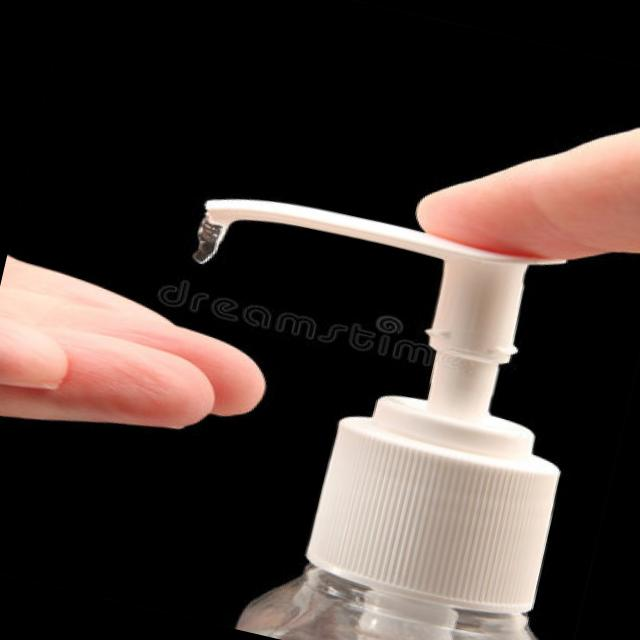sanitizer: (106, 177, 640, 640)
